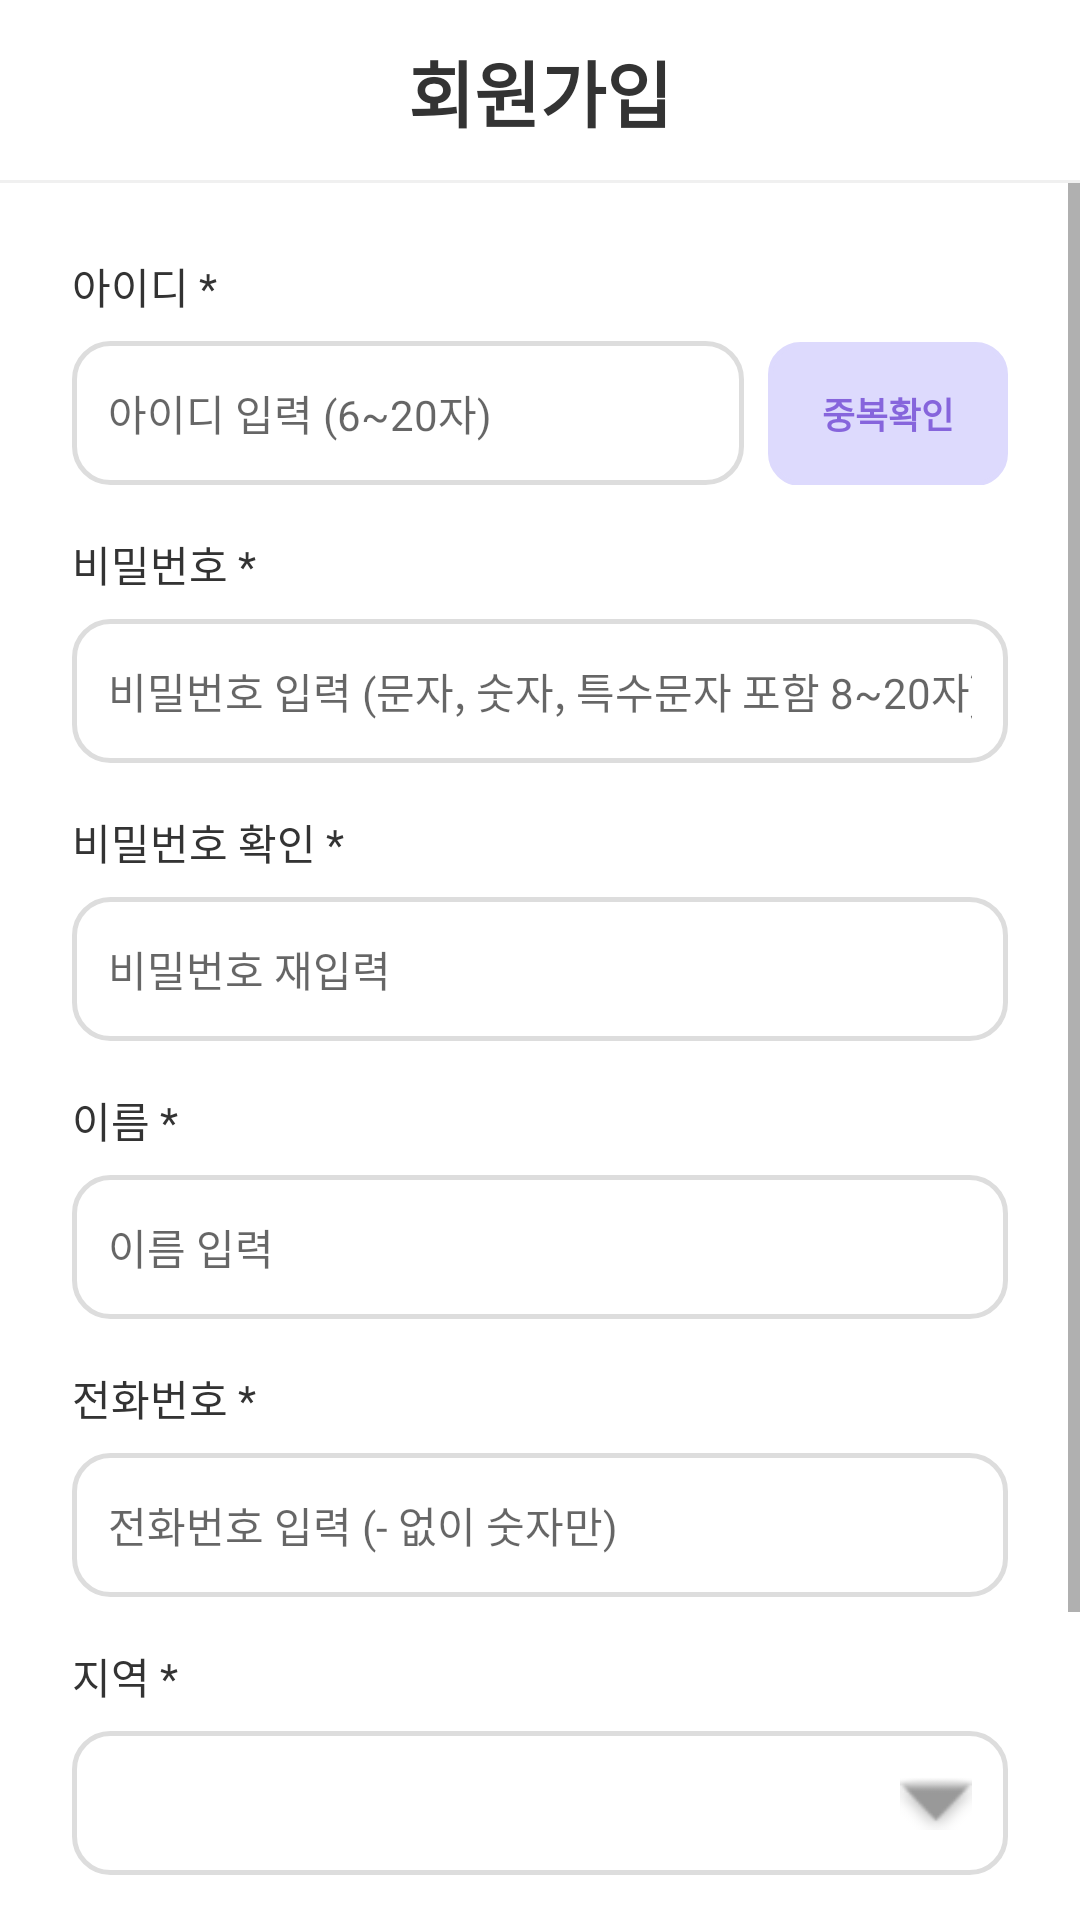

Icon bounding boxes for this 1080×1920 phone screenshot, format (x1, y1, x2, y2):
arrow down float: (900, 1781, 972, 1823)
